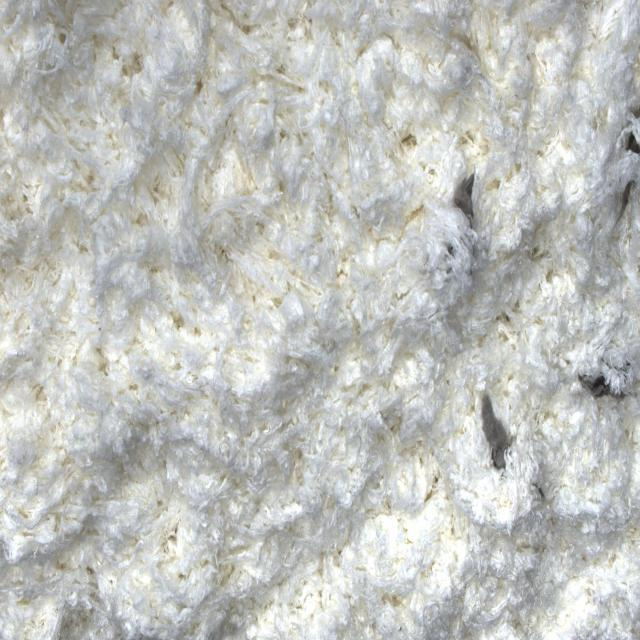dust: (478, 386, 516, 476), (451, 159, 486, 236), (576, 359, 637, 403), (614, 111, 640, 175)
